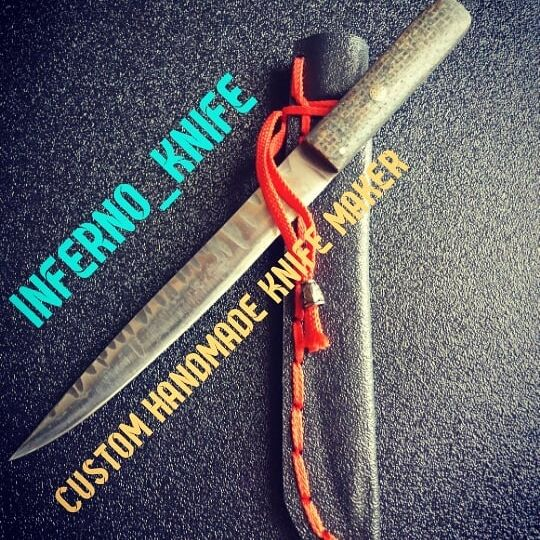knife: (8, 1, 472, 462)
